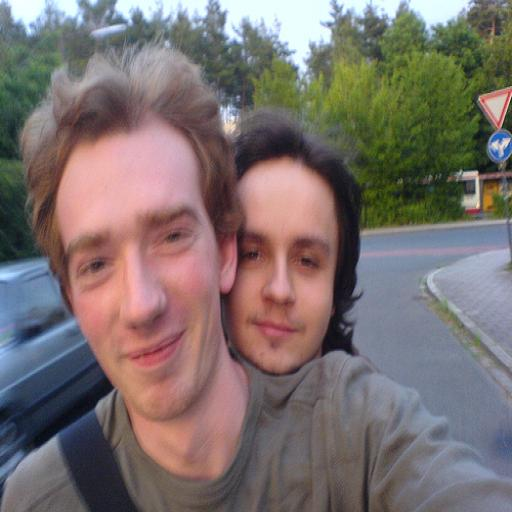bus: (391, 171, 481, 221)
car: (0, 252, 106, 468)
person: (0, 36, 511, 510), (219, 102, 366, 376)
